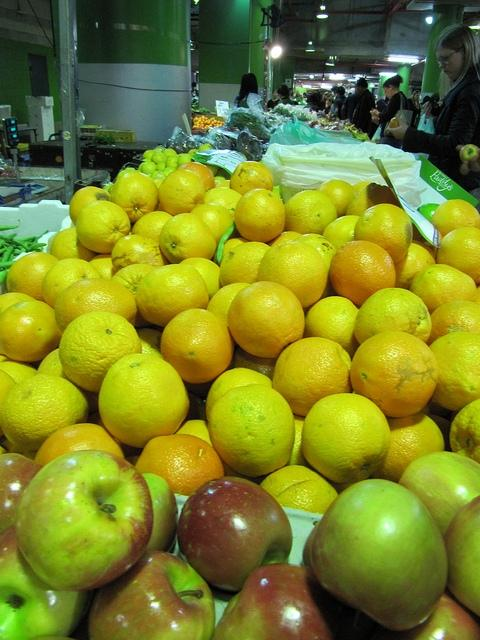apple: (310, 478, 450, 632), (15, 450, 154, 592), (176, 476, 292, 592), (88, 549, 216, 640), (212, 563, 362, 638), (0, 525, 94, 640), (398, 450, 478, 540), (446, 496, 480, 614), (408, 588, 480, 640), (0, 453, 44, 531), (140, 473, 178, 559), (417, 203, 440, 222), (459, 144, 480, 164), (389, 118, 399, 128)
orange: (99, 354, 190, 448), (302, 392, 392, 483), (208, 384, 295, 478), (350, 332, 439, 418), (0, 374, 90, 452), (59, 312, 142, 392), (272, 336, 354, 416), (228, 281, 306, 359), (160, 308, 234, 384), (135, 434, 225, 496), (370, 412, 444, 484), (135, 264, 209, 327), (55, 278, 138, 333), (258, 242, 327, 308), (354, 287, 432, 345), (329, 240, 396, 306), (429, 331, 480, 412), (34, 423, 125, 467), (0, 300, 63, 362), (260, 465, 338, 514), (206, 367, 272, 422), (304, 296, 361, 359), (409, 264, 478, 316), (354, 204, 412, 264), (110, 264, 158, 329), (159, 212, 217, 264), (292, 233, 337, 300), (42, 258, 102, 308), (76, 200, 131, 254), (234, 188, 286, 244), (7, 252, 60, 303), (436, 226, 480, 285), (425, 300, 480, 347), (110, 172, 160, 223), (284, 190, 338, 236), (219, 242, 272, 286), (158, 170, 205, 217), (394, 240, 436, 291), (112, 234, 168, 272), (206, 282, 251, 328), (430, 198, 480, 238), (450, 398, 480, 464), (50, 226, 102, 262), (225, 347, 278, 382), (190, 202, 233, 245), (180, 257, 222, 301), (346, 182, 399, 216), (285, 413, 316, 471), (69, 186, 112, 226), (316, 180, 358, 218), (229, 161, 273, 196), (131, 210, 173, 244), (204, 187, 243, 221), (322, 216, 360, 250), (36, 348, 72, 382), (173, 420, 214, 448), (213, 237, 251, 267), (177, 162, 215, 192), (135, 328, 164, 359), (0, 359, 37, 383), (0, 292, 38, 313), (88, 254, 118, 279), (264, 230, 302, 248), (0, 370, 17, 398), (153, 178, 165, 212), (216, 180, 230, 189), (476, 285, 480, 303)
